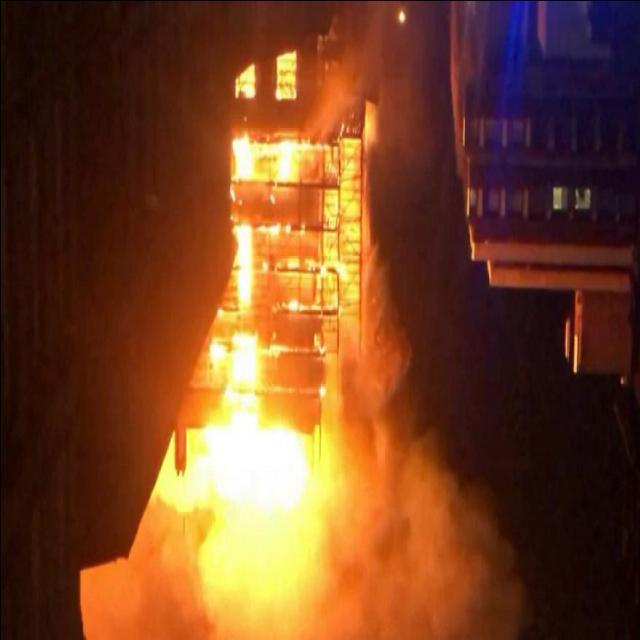Fire: (164, 136, 358, 632)
